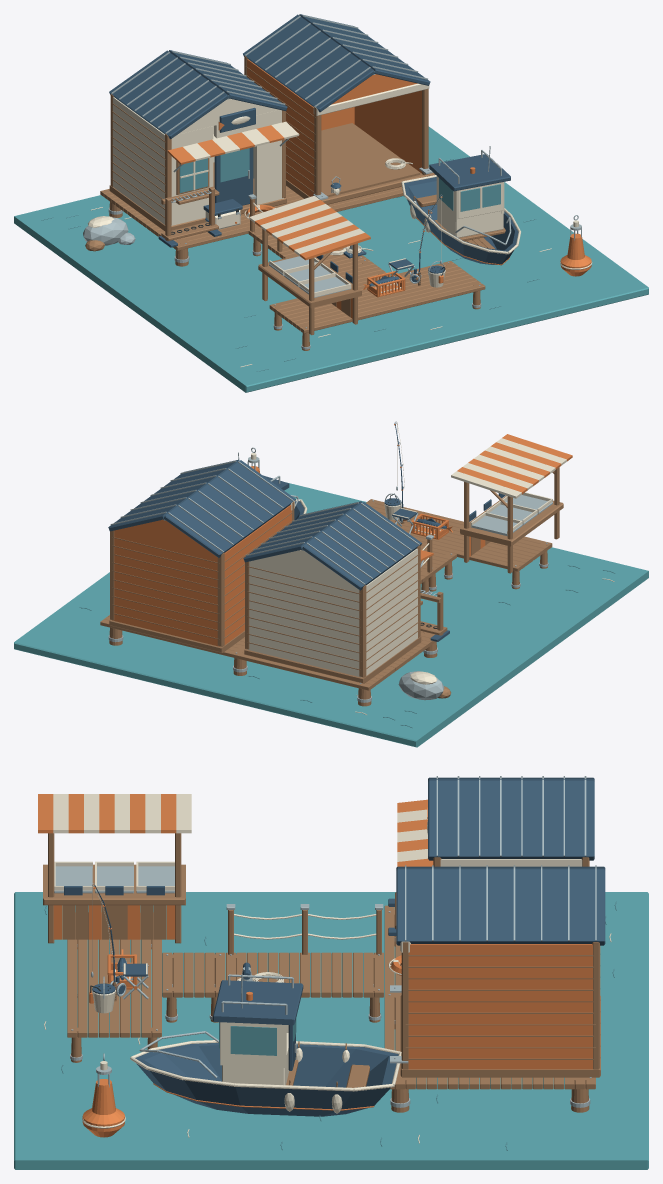
File: harbor-and-tackle-working-harbor-b60a5f78-starter-scene.glb
The picture shows the model from 3 angles, top to bottom: view 1: azimuth 30°, elevation 25°; view 2: azimuth 150°, elevation 25°; view 3: azimuth 270°, elevation 25°; orthographic projection. The views are drawn at different scales.
Parts seen in each view (by area): view 1: 000-harbor-water/sea, 004-tackle-shop/ivory, 004-tackle-shop/navy, 005-boathouse/navy, 005-boathouse/orange, 005-boathouse/cedar, 003-pier-t-junction/cedar, 006-cabin-fishing-boat/navy, 004-tackle-shop/cedar, 007-fish-market-stall/ivory, 006-cabin-fishing-boat/ivory, 001-harbor-quay/cedar (+15 smaller); view 2: 000-harbor-water/sea, 004-tackle-shop/ivory, 005-boathouse/orange, 005-boathouse/navy, 004-tackle-shop/navy, 004-tackle-shop/cedar, 005-boathouse/cedar, 003-pier-t-junction/cedar, 007-fish-market-stall/ivory, 001-harbor-quay/cedar, 007-fish-market-stall/cedar, 007-fish-market-stall/orange (+6 smaller); view 3: 000-harbor-water/sea, 005-boathouse/orange, 005-boathouse/navy, 006-cabin-fishing-boat/navy, 004-tackle-shop/navy, 003-pier-t-junction/cedar, 005-boathouse/cedar, 007-fish-market-stall/cedar, 002-pier-straight/cedar, 001-harbor-quay/cedar, 006-cabin-fishing-boat/ivory, 007-fish-market-stall/orange (+13 smaller).
Boxes of the visible parts, x1,y1,x2,y2 form: 000-harbor-water/sea: (14, 126, 648, 392); 004-tackle-shop/ivory: (113, 97, 299, 225); 004-tackle-shop/navy: (109, 50, 287, 205); 005-boathouse/navy: (243, 14, 430, 112); 005-boathouse/orange: (247, 59, 421, 196); 005-boathouse/cedar: (244, 56, 429, 204); 003-pier-t-junction/cedar: (269, 258, 485, 350); 006-cabin-fishing-boat/navy: (404, 154, 518, 264); 004-tackle-shop/cedar: (109, 94, 286, 231); 007-fish-market-stall/ivory: (249, 195, 364, 297); 006-cabin-fishing-boat/ivory: (401, 175, 520, 254); 001-harbor-quay/cedar: (100, 172, 435, 266); 000-harbor-water/sea: (14, 482, 648, 747); 004-tackle-shop/ivory: (247, 548, 417, 677); 005-boathouse/orange: (112, 505, 291, 646); 005-boathouse/navy: (108, 459, 295, 557); 004-tackle-shop/navy: (243, 501, 421, 590); 004-tackle-shop/cedar: (244, 545, 422, 683); 005-boathouse/cedar: (109, 502, 294, 652); 003-pier-t-junction/cedar: (366, 499, 552, 591); 007-fish-market-stall/ivory: (451, 438, 566, 535); 001-harbor-quay/cedar: (100, 615, 437, 706); 007-fish-market-stall/cedar: (460, 467, 563, 573); 007-fish-market-stall/orange: (457, 434, 572, 556); 000-harbor-water/sea: (14, 892, 648, 1169); 005-boathouse/orange: (408, 944, 592, 1069); 005-boathouse/navy: (396, 866, 605, 945); 006-cabin-fishing-boat/navy: (135, 980, 398, 1116); 004-tackle-shop/navy: (428, 777, 594, 860); 003-pier-t-junction/cedar: (67, 912, 225, 1062); 005-boathouse/cedar: (400, 942, 600, 1077); 007-fish-market-stall/cedar: (43, 833, 185, 943); 002-pier-straight/cedar: (226, 952, 383, 1022); 001-harbor-quay/cedar: (384, 905, 595, 1112); 006-cabin-fishing-boat/ivory: (130, 1022, 401, 1113); 007-fish-market-stall/orange: (38, 794, 176, 939).
Size of the model in its own units: 12 by 4.44 by 12.
